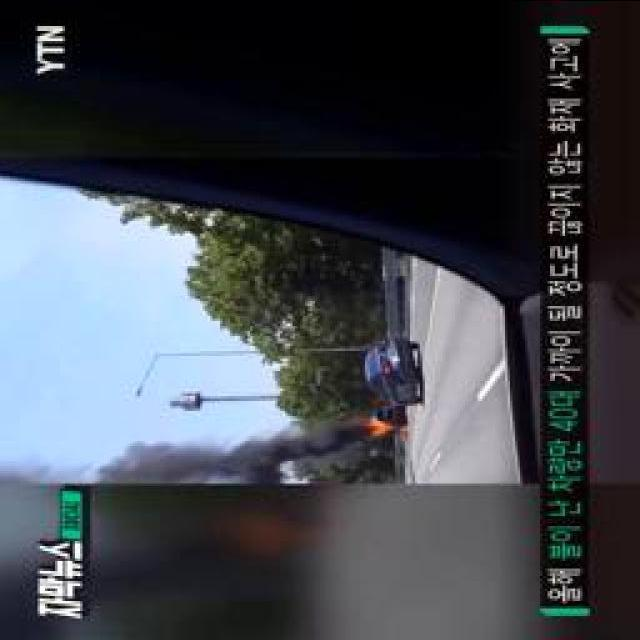Fire: (375, 414, 408, 440)
